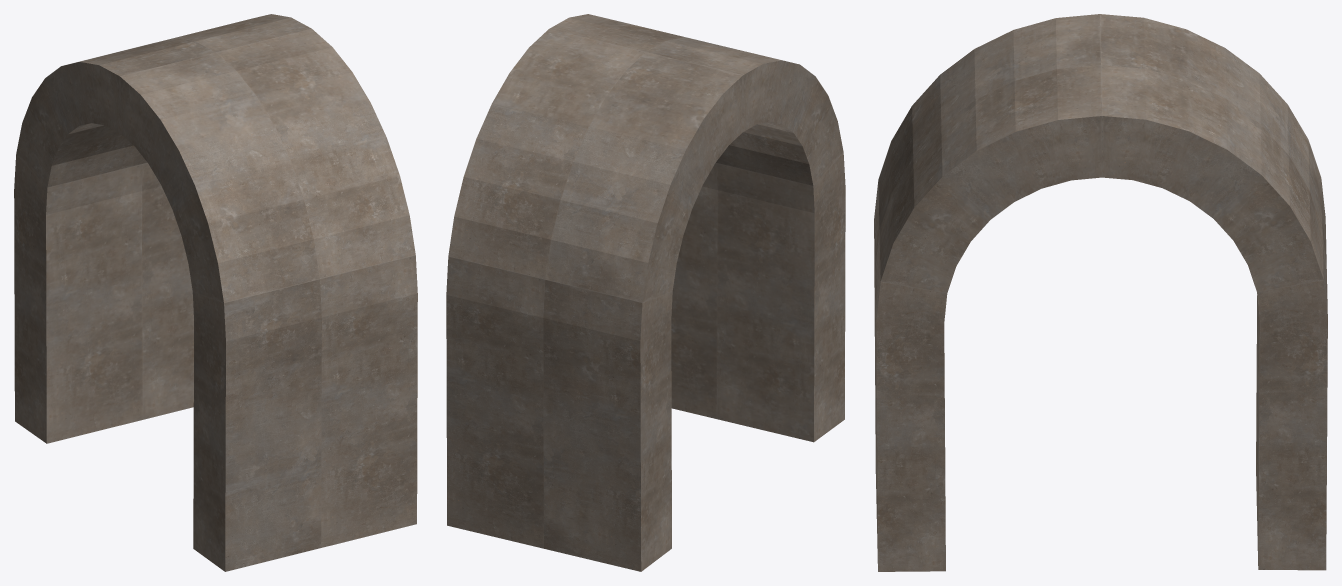
File: CastleArkRound.fbx
3 views of the same model, side by side, from view 1: azimuth 30°, elevation 25°; view 2: azimuth 150°, elevation 25°; view 3: azimuth 270°, elevation 25° (orthographic). The views are drawn at different scales.
Parts seen in each view (by area): view 1: CastleTower.014; view 2: CastleTower.014; view 3: CastleTower.014.
Boxes of the visible parts, left/top/right/bottom form: CastleTower.014: left=14, top=14, right=417, bottom=571; CastleTower.014: left=446, top=14, right=845, bottom=571; CastleTower.014: left=874, top=14, right=1327, bottom=571.
Size of the model in its own units: 1.01 by 2.07 by 1.87.
